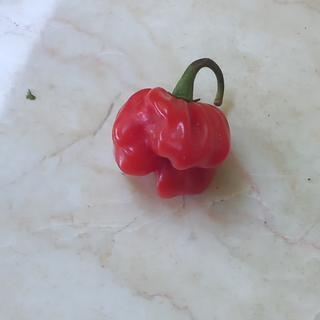Grade-B: (106, 82, 234, 198)
